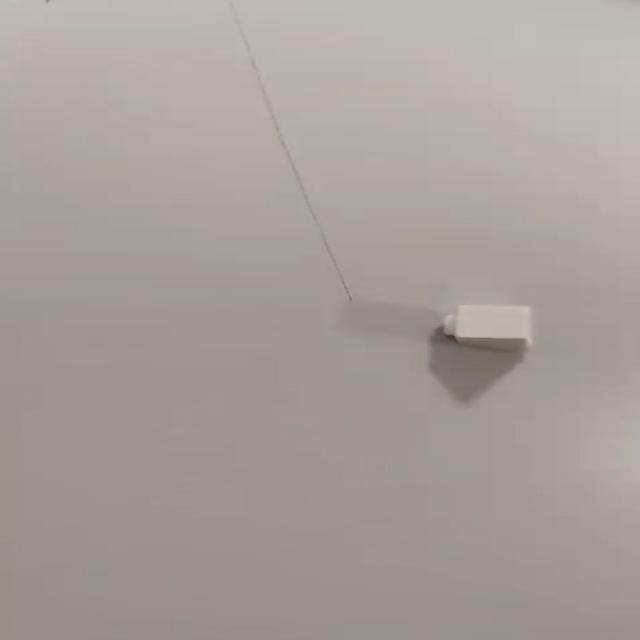P1x2x1: (435, 304, 540, 346)
